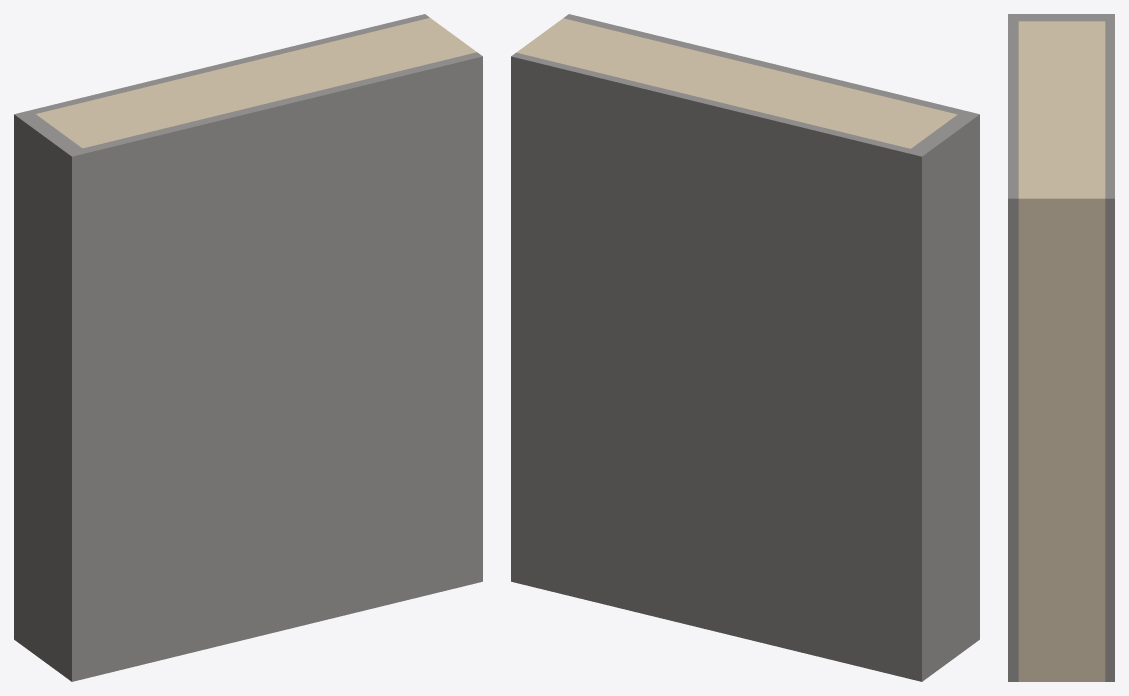
Rendered from Books_5.fbx.
The picture shows the model from 3 angles, left to right: view 1: azimuth 30°, elevation 25°; view 2: azimuth 150°, elevation 25°; view 3: azimuth 270°, elevation 25°; orthographic projection. The views are drawn at different scales.
Parts seen in each view (by area): view 1: pCube768; view 2: pCube768; view 3: pCube768.
Part boxes in pixels (x1,y1,x2,y2): pCube768: (14,14,482,681); pCube768: (511,14,979,681); pCube768: (1008,14,1114,681).
Bounding box in the file's own units: 0.4094 × 0.5 × 0.1.
Materials: 1 (1 with a texture image).
